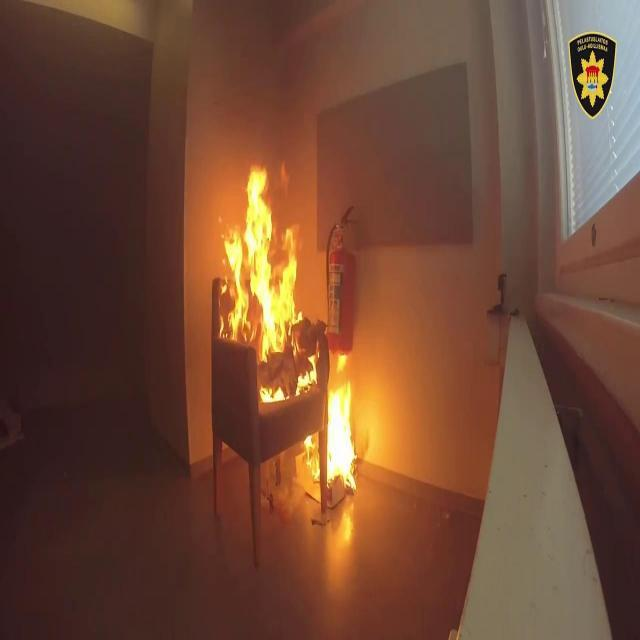fire: (222, 148, 326, 387), (299, 408, 393, 481)
